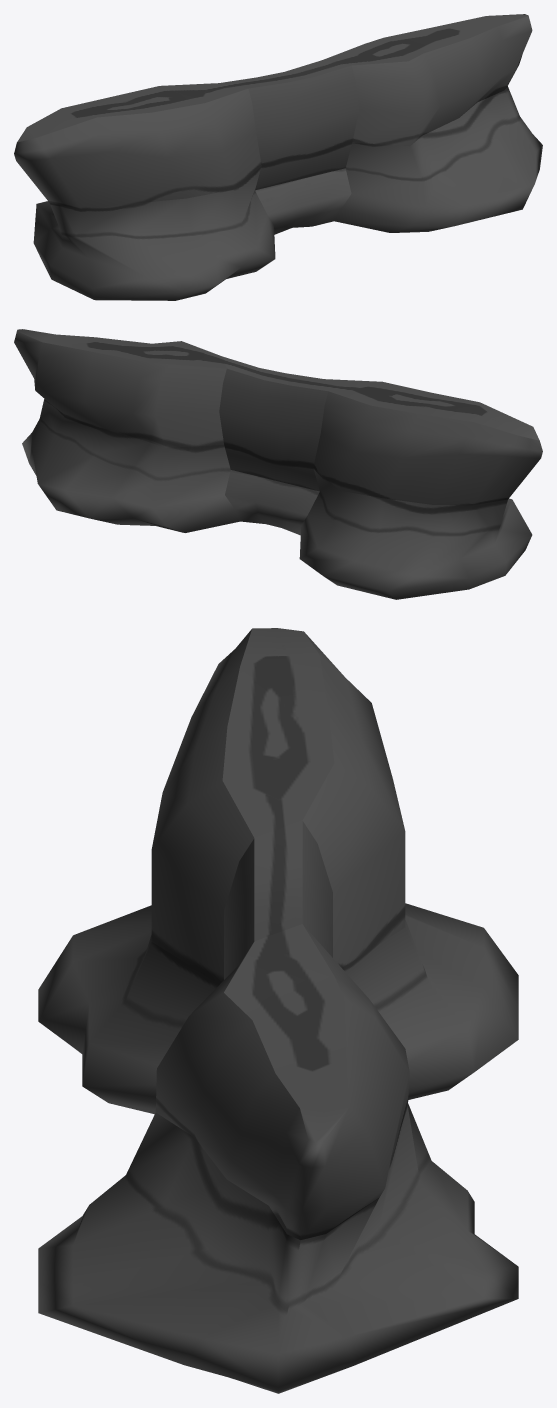
Rendered from Mesh_Top_Canyon_3_OE.fbx.
3 renders of one model, top to bottom at view 1: azimuth 30°, elevation 25°; view 2: azimuth 150°, elevation 25°; view 3: azimuth 270°, elevation 25°, orthographic. The views are drawn at different scales.
Visible parts, largest first — view 1: Canyontop3; view 2: Canyontop3; view 3: Canyontop3.
Boxes of the visible parts, box(x1,y1,x2,y2) form: Canyontop3: box(14, 14, 542, 300); Canyontop3: box(14, 329, 542, 599); Canyontop3: box(38, 628, 518, 1393).
Bounding box in the file's own units: 4707 × 1364 × 1879.
